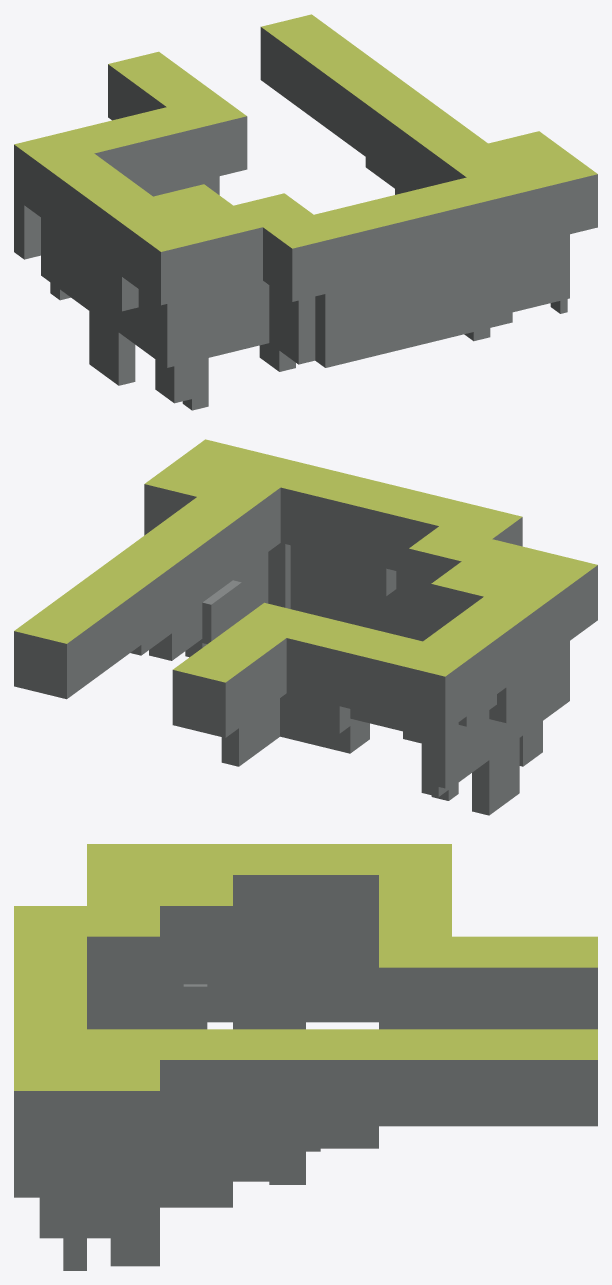
Rendered from LEVEL_1.fbx.
The picture shows the model from 3 angles, top to bottom: view 1: azimuth 30°, elevation 25°; view 2: azimuth 150°, elevation 25°; view 3: azimuth 270°, elevation 25°; orthographic projection. The views are drawn at different scales.
Visible parts, largest first — view 1: Cube.006; view 2: Cube.006; view 3: Cube.006.
Part boxes in pixels (x1,y1,x2,y2): Cube.006: (14,14,597,410); Cube.006: (14,439,597,815); Cube.006: (14,844,597,1270).
Size of the model in its own units: 1600 by 696 by 1600.
